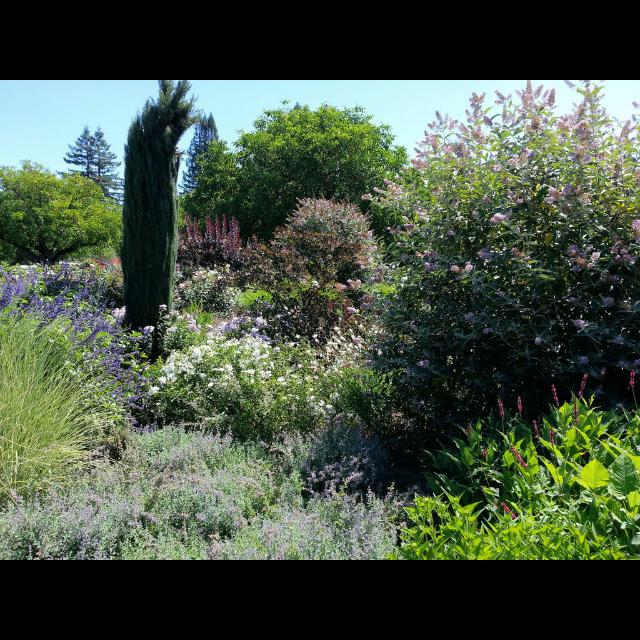Flower: (357, 80, 639, 350)
